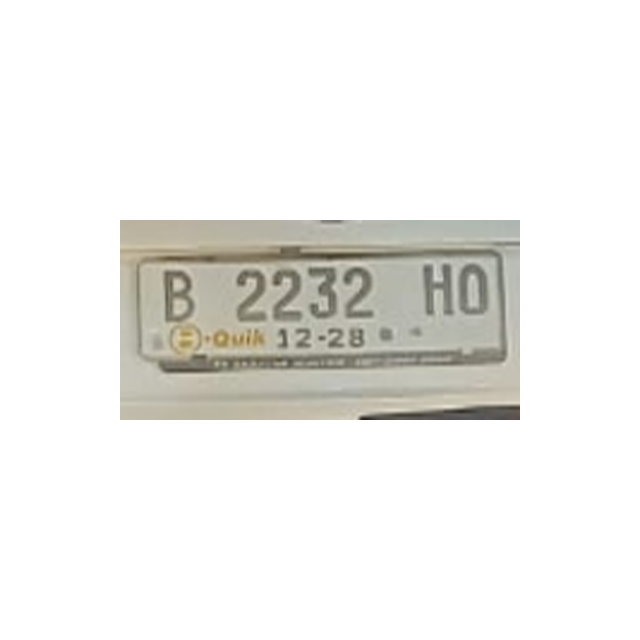contain: (160, 266, 199, 325), (453, 256, 489, 319), (232, 264, 269, 325), (419, 259, 456, 319), (342, 262, 378, 322), (271, 261, 304, 322), (309, 259, 343, 318)
